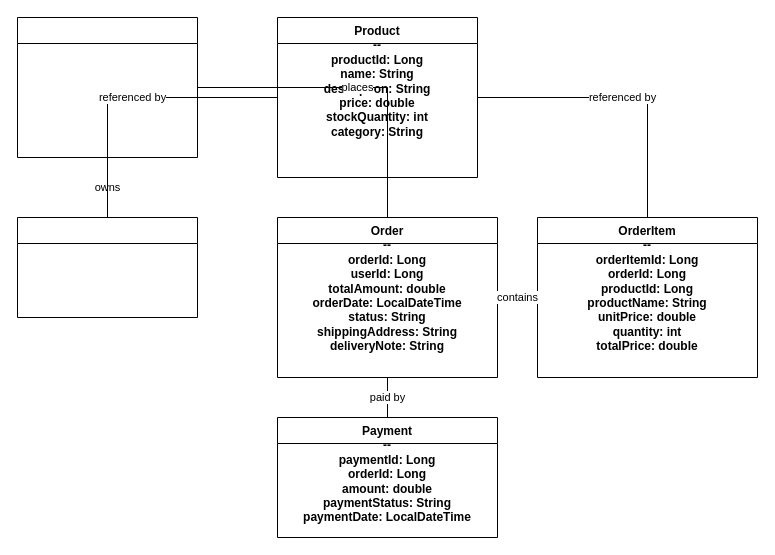
Image size: 775x555. Some labels were removed from this diagram. The box of each missing label's shape, as (x1, y1, x2, y2) in pixels:
Cart -- cartId: Long userId: Long productId: Long quantity: int: (16, 216, 198, 318)
User -- userId: Long username: String password: String role: Role email: String: (16, 16, 198, 158)
